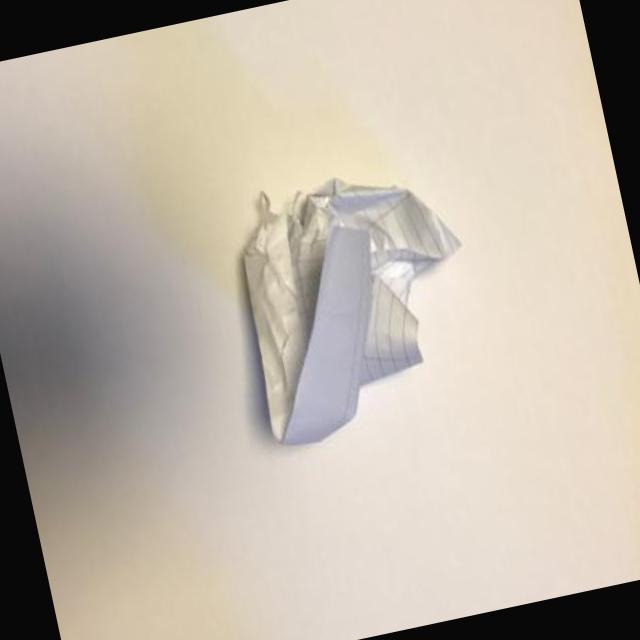giay: (238, 176, 460, 441)
